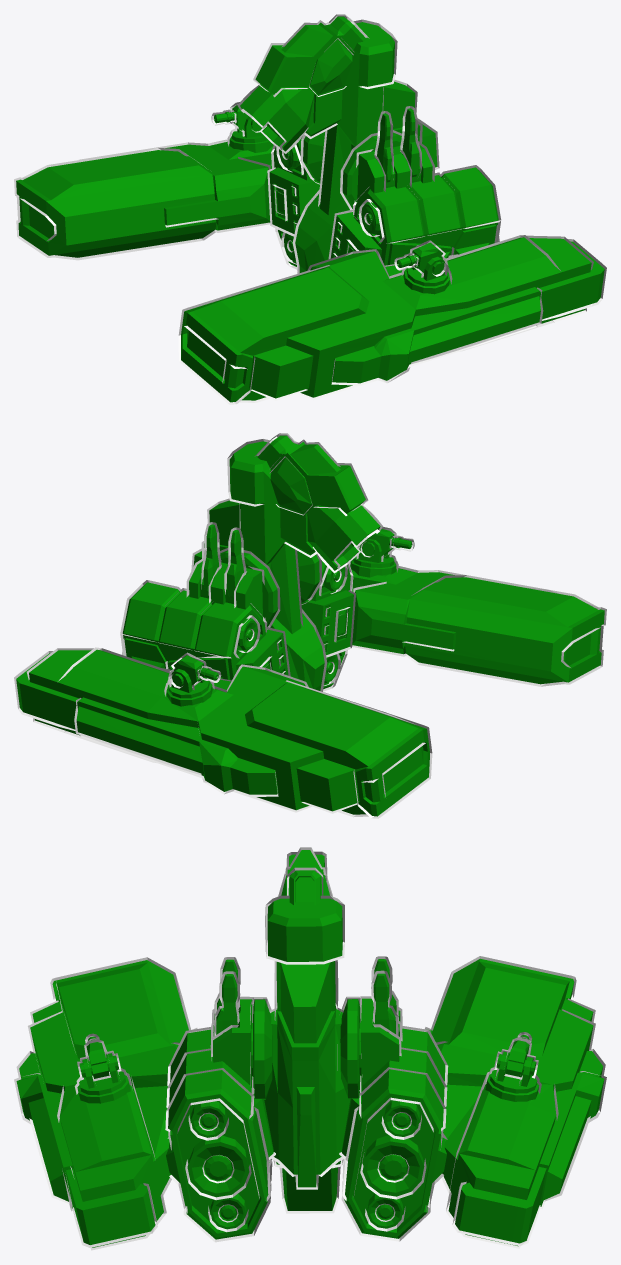
The model's file is ship4_green.glb.
3 views of the same model, one above another, from view 1: azimuth 30°, elevation 25°; view 2: azimuth 150°, elevation 25°; view 3: azimuth 270°, elevation 25° (orthographic). The views are drawn at different scales.
Parts seen in each view (by area): view 1: ME_ship_IndexedFaceSet; view 2: ME_ship_IndexedFaceSet; view 3: ME_ship_IndexedFaceSet.
Boxes of the visible parts, left/top/right/bottom form: ME_ship_IndexedFaceSet: left=14, top=14, right=606, bottom=404; ME_ship_IndexedFaceSet: left=14, top=433, right=606, bottom=818; ME_ship_IndexedFaceSet: left=14, top=847, right=606, bottom=1250.
Bounding box in the file's own units: 352 × 257 × 398.
